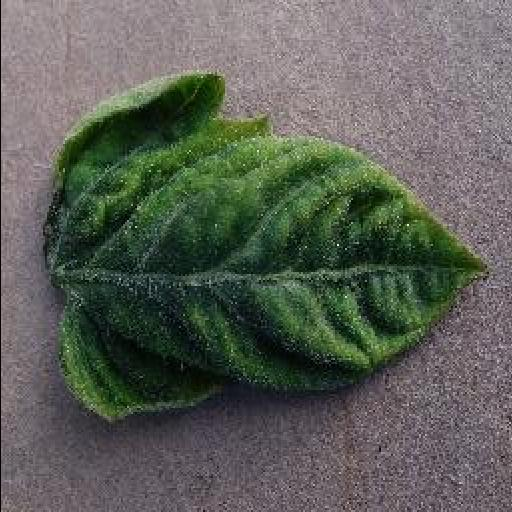disease_tomato: (40, 74, 490, 424)
